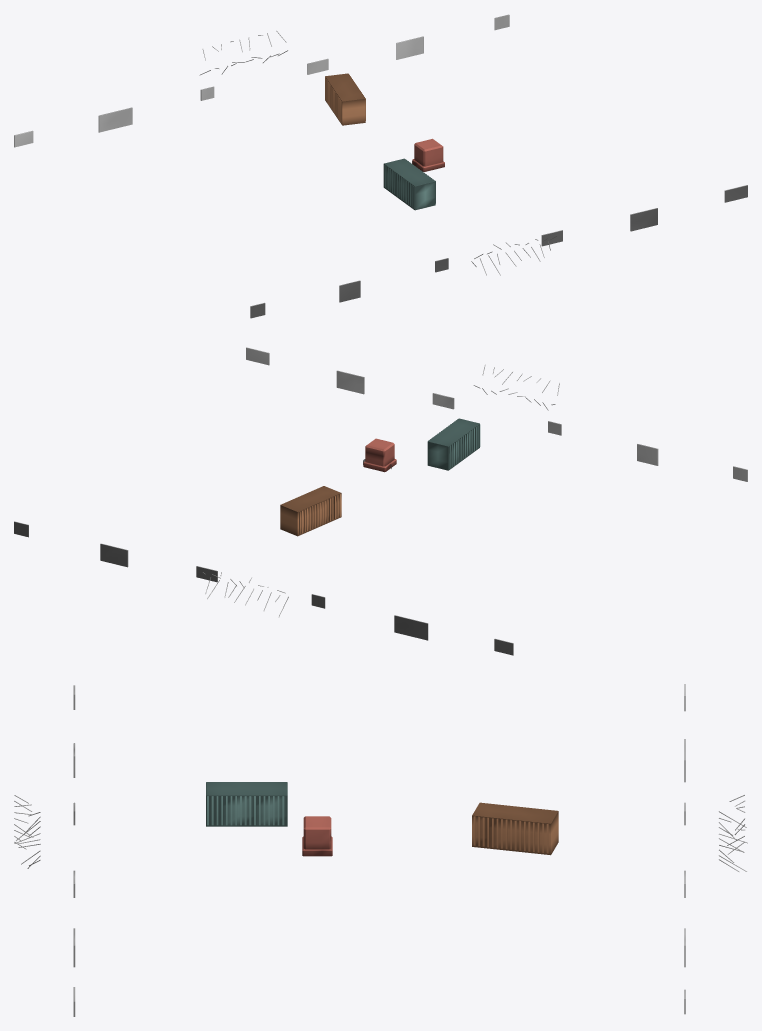
Rendered from overpass_rust.glb.
The picture shows the model from 3 angles, top to bottom: view 1: azimuth 30°, elevation 25°; view 2: azimuth 150°, elevation 25°; view 3: azimuth 270°, elevation 25°; orthographic projection. The views are drawn at different scales.
Parts seen in each view (by area): view 1: rust; view 2: rust; view 3: rust.
Boxes of the visible parts, x1,y1,x2,y2 form: rust: (14,14,747,318); rust: (14,347,747,655); rust: (14,684,747,1016).
Bounding box in the file's own units: 54.27 × 5.02 × 53.02.
